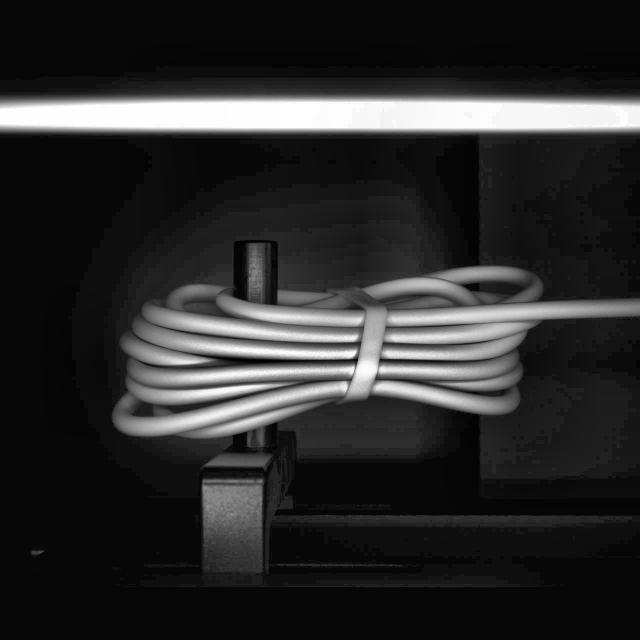Cable: (109, 262, 640, 446)
